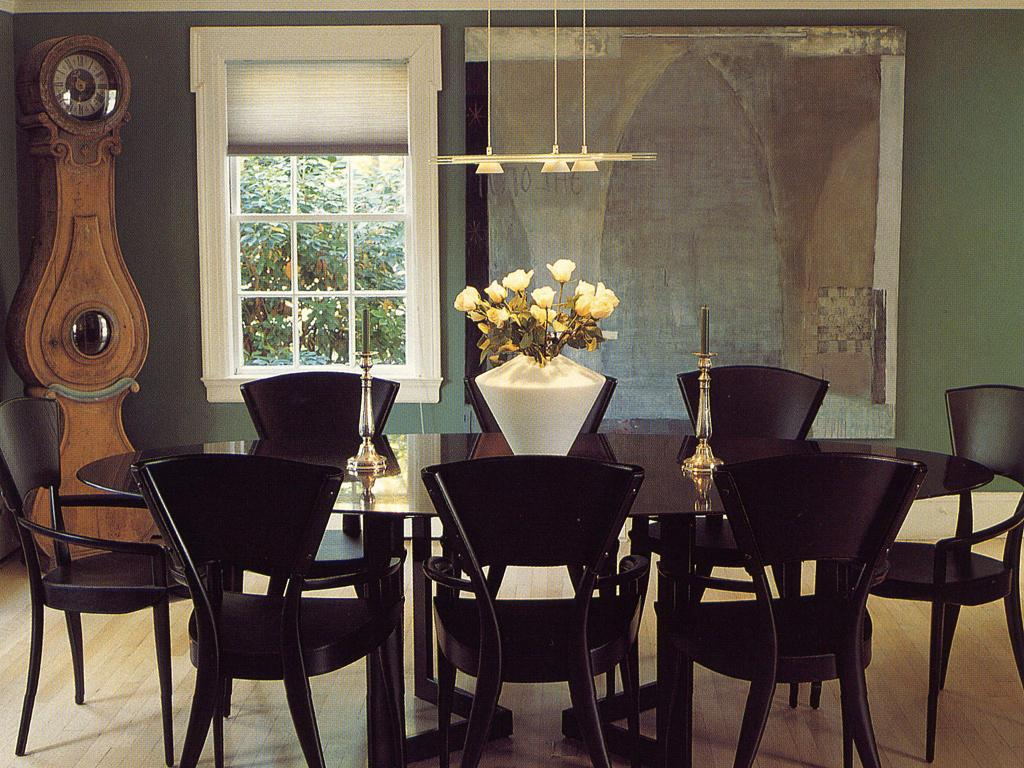Ventana: (201, 54, 448, 395)
